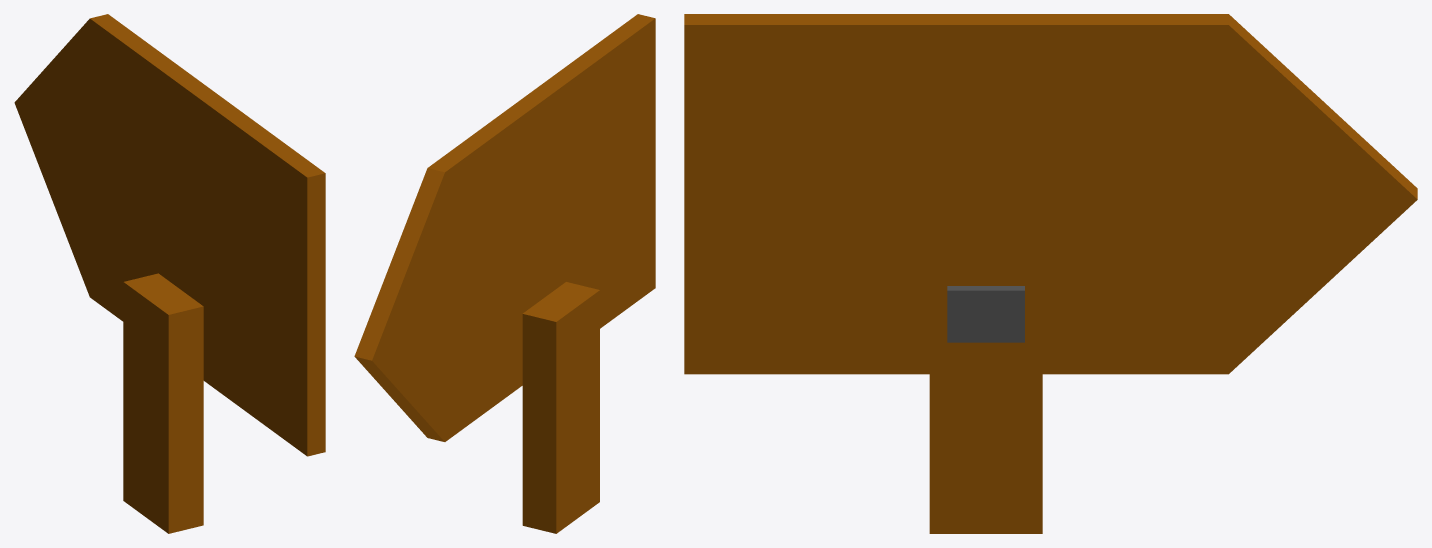
The model's file is Sign1.fbx.
3 renders of one model, left to right at view 1: azimuth 30°, elevation 25°; view 2: azimuth 150°, elevation 25°; view 3: azimuth 270°, elevation 25°, orthographic. The views are drawn at different scales.
Parts seen in each view (by area): view 1: Plane.004; view 2: Plane.004; view 3: Plane.004.
Part boxes in pixels (box(x1,y1,x2,y2)): Plane.004: box(14, 14, 325, 533); Plane.004: box(354, 14, 655, 533); Plane.004: box(684, 14, 1417, 533).
Bounding box in the file's own units: 49.11 × 293 × 372.
